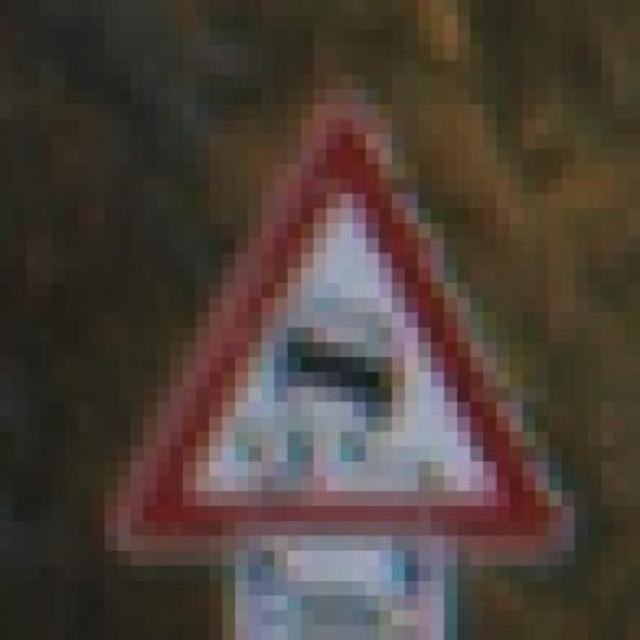Slippery Road Ahead: (92, 59, 600, 581)
